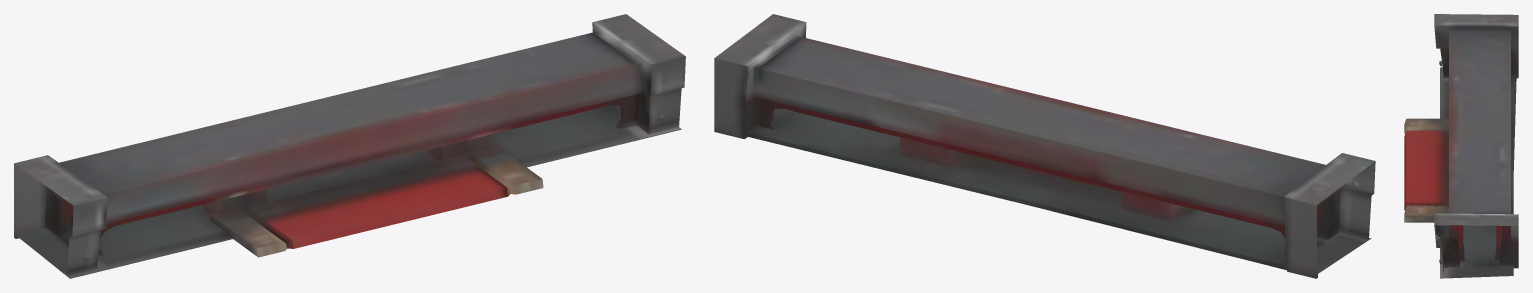
Rendered from SM_Tripo_InfernoIronBridgeRailPiece.glb.
3 views of the same model, side by side, from view 1: azimuth 30°, elevation 25°; view 2: azimuth 150°, elevation 25°; view 3: azimuth 270°, elevation 25° (orthographic). The views are drawn at different scales.
Visible parts, largest first — view 1: SM_Tripo_InfernoIronBridgeRailPiece_LOD0; view 2: SM_Tripo_InfernoIronBridgeRailPiece_LOD0; view 3: SM_Tripo_InfernoIronBridgeRailPiece_LOD0.
Boxes of the visible parts, x1,y1,x2,y2 form: SM_Tripo_InfernoIronBridgeRailPiece_LOD0: [14, 14, 685, 278]; SM_Tripo_InfernoIronBridgeRailPiece_LOD0: [714, 14, 1375, 278]; SM_Tripo_InfernoIronBridgeRailPiece_LOD0: [1404, 14, 1518, 278].
Size of the model in its own units: 2.74 by 0.326 by 0.6265.
1 material, 1 textured.
